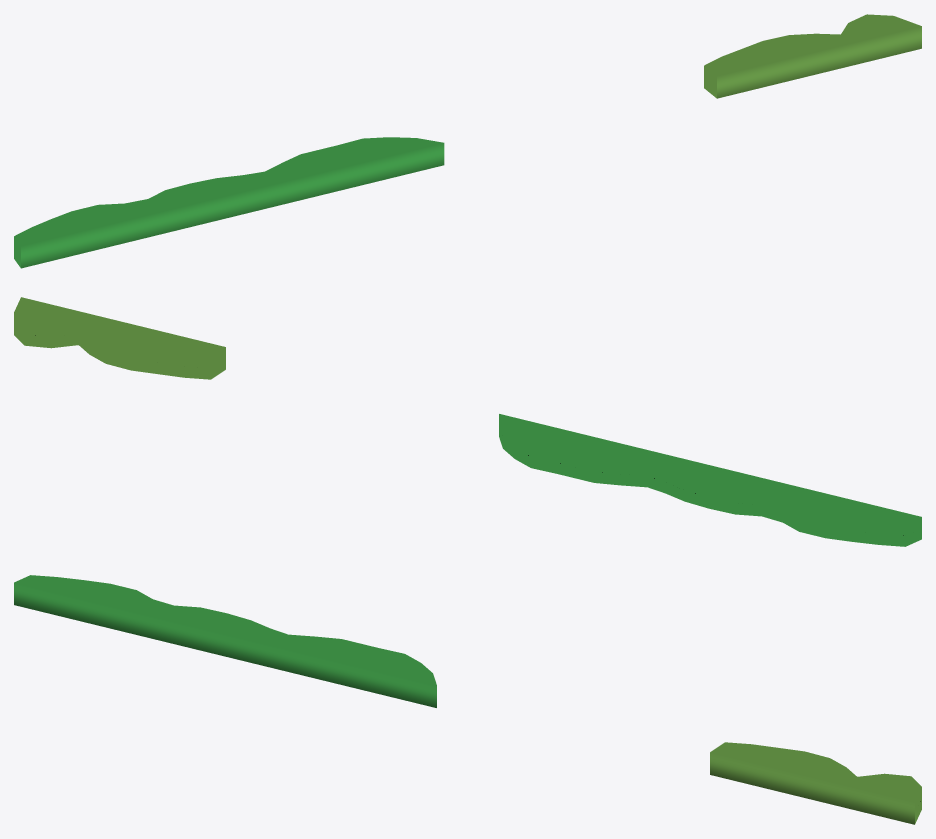
File: backhillsfront.fbx
3 renders of one model, top to bottom at view 1: azimuth 30°, elevation 25°; view 2: azimuth 150°, elevation 25°; view 3: azimuth 330°, elevation 25°, orthographic.
Visible parts, largest first — view 1: backhillsfront1; view 2: backhillsfront1; view 3: backhillsfront1.
Boxes of the visible parts, bbox=[...] form: backhillsfront1: bbox=[14, 14, 921, 268]; backhillsfront1: bbox=[14, 297, 921, 546]; backhillsfront1: bbox=[14, 575, 921, 824].
Size of the model in its own units: 0.8377 by 0.02 by 0.0415.
